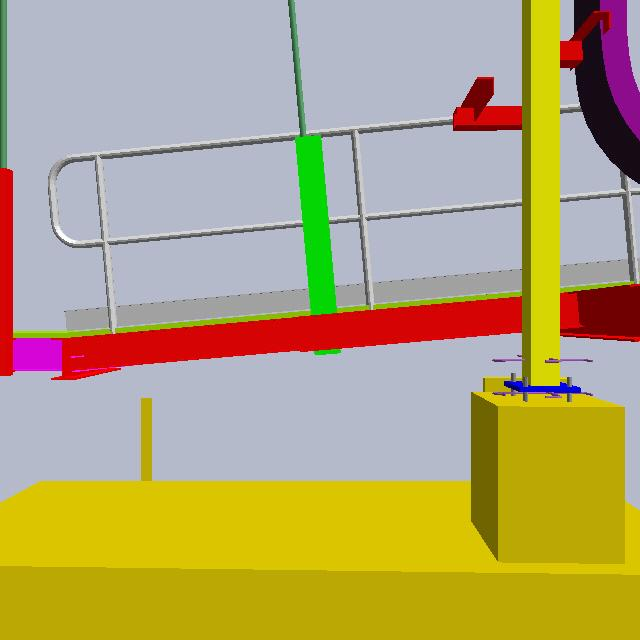Poste: (281, 1, 321, 329)
Soporte: (290, 129, 346, 368)
